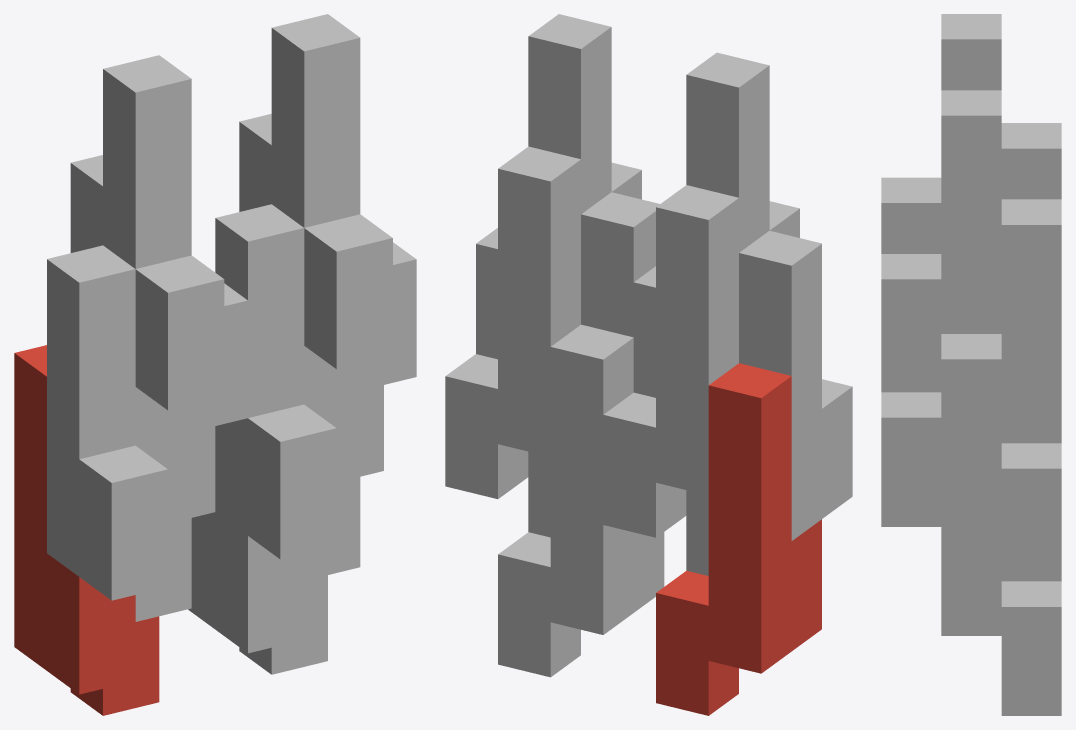
Rendered from tiling.obj.
The picture shows the model from 3 angles, left to right: view 1: azimuth 30°, elevation 25°; view 2: azimuth 150°, elevation 25°; view 3: azimuth 270°, elevation 25°; orthographic projection. The views are drawn at different scales.
Visible parts, largest first — view 1: copy_1_domain_2, copy_1_domain_8, copy_1_domain_4, copy_1_domain_6, copy_1_domain_1, copy_1_domain_5, copy_1_domain_3, copy_1_domain_7; view 2: copy_1_domain_1, copy_1_domain_5, copy_1_domain_3, copy_1_domain_7, copy_1_domain_2, copy_1_domain_4, copy_1_domain_8, copy_1_domain_6; view 3: copy_1_domain_8, copy_1_domain_7, copy_1_domain_6, copy_1_domain_5, copy_1_domain_4, copy_1_domain_3.
Boxes of the visible parts, x1=… form: copy_1_domain_2: x1=47, y1=245, x2=191, y2=621; copy_1_domain_8: x1=271, y1=14, x2=416, y2=390; copy_1_domain_4: x1=103, y1=55, x2=247, y2=431; copy_1_domain_6: x1=215, y1=204, x2=360, y2=580; copy_1_domain_1: x1=14, y1=345, x2=159, y2=715; copy_1_domain_5: x1=188, y1=512, x2=327, y2=674; copy_1_domain_3: x1=70, y1=155, x2=215, y2=517; copy_1_domain_7: x1=239, y1=114, x2=383, y2=476; copy_1_domain_1: x1=656, y1=363, x2=821, y2=715; copy_1_domain_5: x1=498, y1=324, x2=664, y2=677; copy_1_domain_3: x1=603, y1=185, x2=738, y2=537; copy_1_domain_7: x1=445, y1=146, x2=580, y2=498; copy_1_domain_2: x1=686, y1=230, x2=852, y2=575; copy_1_domain_4: x1=633, y1=52, x2=799, y2=397; copy_1_domain_8: x1=476, y1=14, x2=641, y2=359; copy_1_domain_6: x1=528, y1=192, x2=659, y2=537; copy_1_domain_8: x1=881, y1=90, x2=1001, y2=468; copy_1_domain_7: x1=941, y1=199, x2=1061, y2=577; copy_1_domain_6: x1=881, y1=392, x2=1001, y2=606; copy_1_domain_5: x1=941, y1=577, x2=1061, y2=715; copy_1_domain_4: x1=881, y1=14, x2=1001, y2=253; copy_1_domain_3: x1=1001, y1=123, x2=1061, y2=199.
Size of the model in its own units: 6 by 11 by 3.
